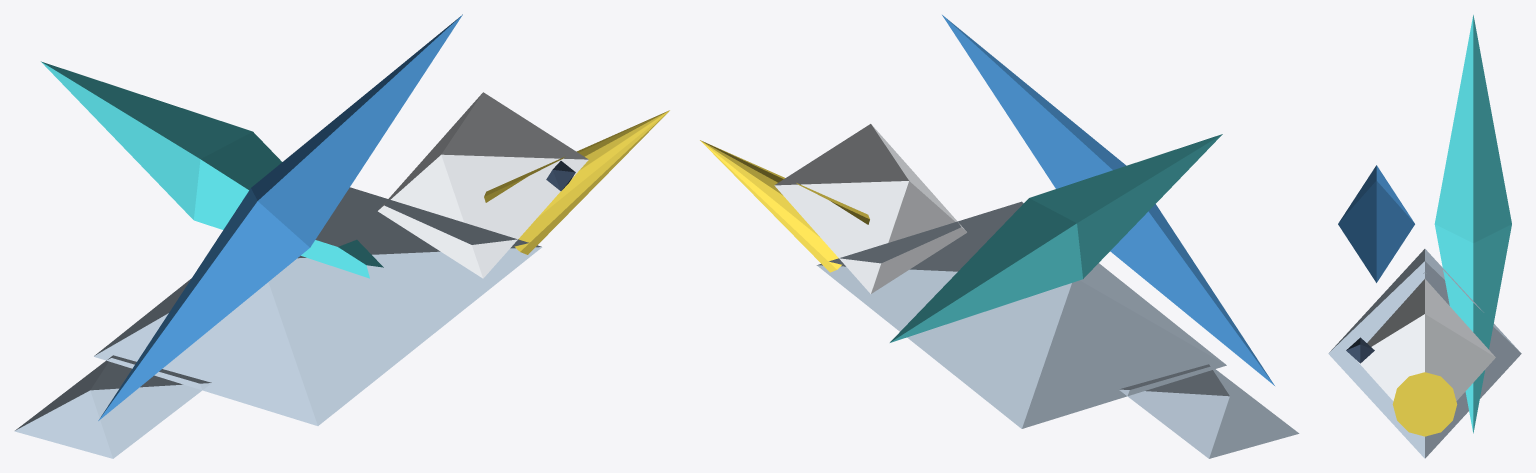
The model's file is minglora_silver_falcon.gltf.
The picture shows the model from 3 angles, left to right: view 1: azimuth 30°, elevation 25°; view 2: azimuth 150°, elevation 25°; view 3: azimuth 270°, elevation 25°; orthographic projection. The views are drawn at different scales.
Visible parts, largest first — view 1: minglora_silver_falcon_0, minglora_silver_falcon_3, minglora_silver_falcon_1, minglora_silver_falcon_4, minglora_silver_falcon_6, minglora_silver_falcon_2; view 2: minglora_silver_falcon_0, minglora_silver_falcon_4, minglora_silver_falcon_1, minglora_silver_falcon_3, minglora_silver_falcon_6, minglora_silver_falcon_2; view 3: minglora_silver_falcon_4, minglora_silver_falcon_1, minglora_silver_falcon_0, minglora_silver_falcon_3, minglora_silver_falcon_2, minglora_silver_falcon_5.
Part boxes in pixels (left/top/right/bottom): minglora_silver_falcon_0: left=94, top=187, right=542, bottom=425; minglora_silver_falcon_3: left=98, top=14, right=462, bottom=420; minglora_silver_falcon_1: left=378, top=92, right=588, bottom=278; minglora_silver_falcon_4: left=41, top=61, right=383, bottom=278; minglora_silver_falcon_6: left=14, top=355, right=211, bottom=458; minglora_silver_falcon_2: left=484, top=110, right=669, bottom=254; minglora_silver_falcon_0: left=816, top=201, right=1226, bottom=428; minglora_silver_falcon_4: left=890, top=134, right=1222, bottom=342; minglora_silver_falcon_1: left=774, top=124, right=966, bottom=293; minglora_silver_falcon_3: left=942, top=15, right=1274, bottom=385; minglora_silver_falcon_6: left=1118, top=364, right=1299, bottom=458; minglora_silver_falcon_2: left=700, top=140, right=869, bottom=272; minglora_silver_falcon_4: left=1434, top=15, right=1511, bottom=433; minglora_silver_falcon_1: left=1356, top=279, right=1495, bottom=400; minglora_silver_falcon_0: left=1328, top=249, right=1521, bottom=458; minglora_silver_falcon_3: left=1338, top=165, right=1414, bottom=282; minglora_silver_falcon_2: left=1392, top=372, right=1457, bottom=436; minglora_silver_falcon_5: left=1346, top=337, right=1374, bottom=363.
Bounding box in the file's own units: 1.99 × 1.17 × 0.6.
